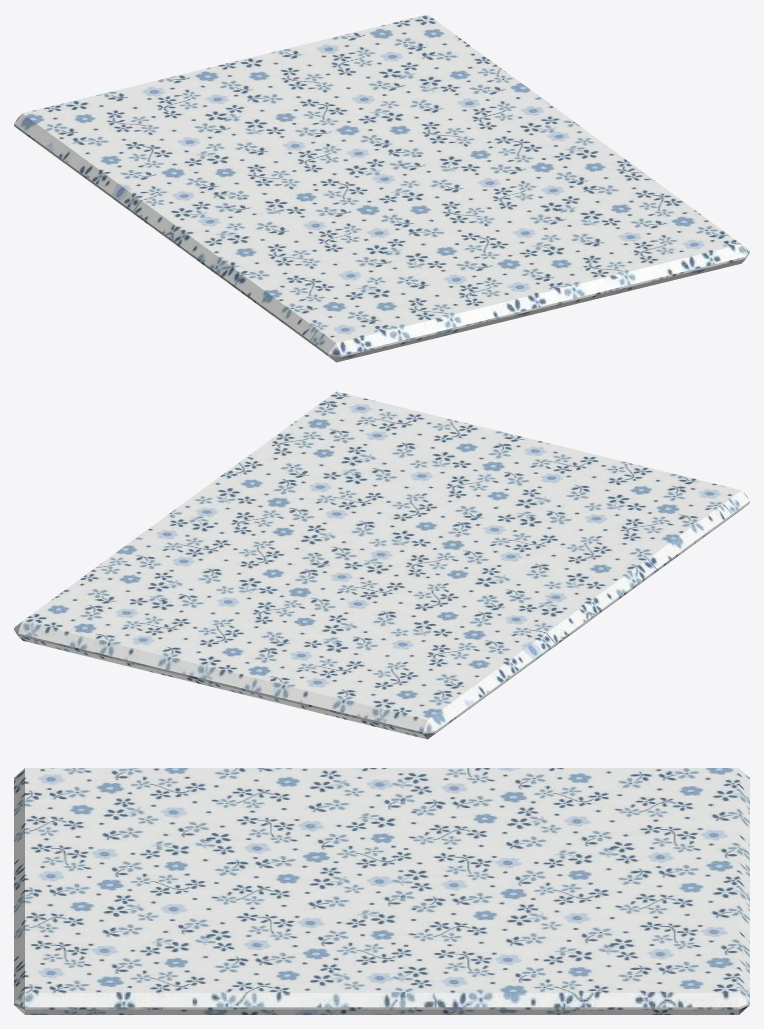
File: MATTRESS.fbx
3 renders of one model, top to bottom at view 1: azimuth 30°, elevation 25°; view 2: azimuth 150°, elevation 25°; view 3: azimuth 270°, elevation 25°, orthographic. The views are drawn at different scales.
Visible parts, largest first — view 1: Mattress; view 2: Mattress; view 3: Mattress.
Boxes of the visible parts, x1,y1,x2,y2 form: Mattress: (14,14,749,362); Mattress: (14,391,749,739); Mattress: (14,768,749,1014).
Bounding box in the file's own units: 508 × 22.26 × 675.
